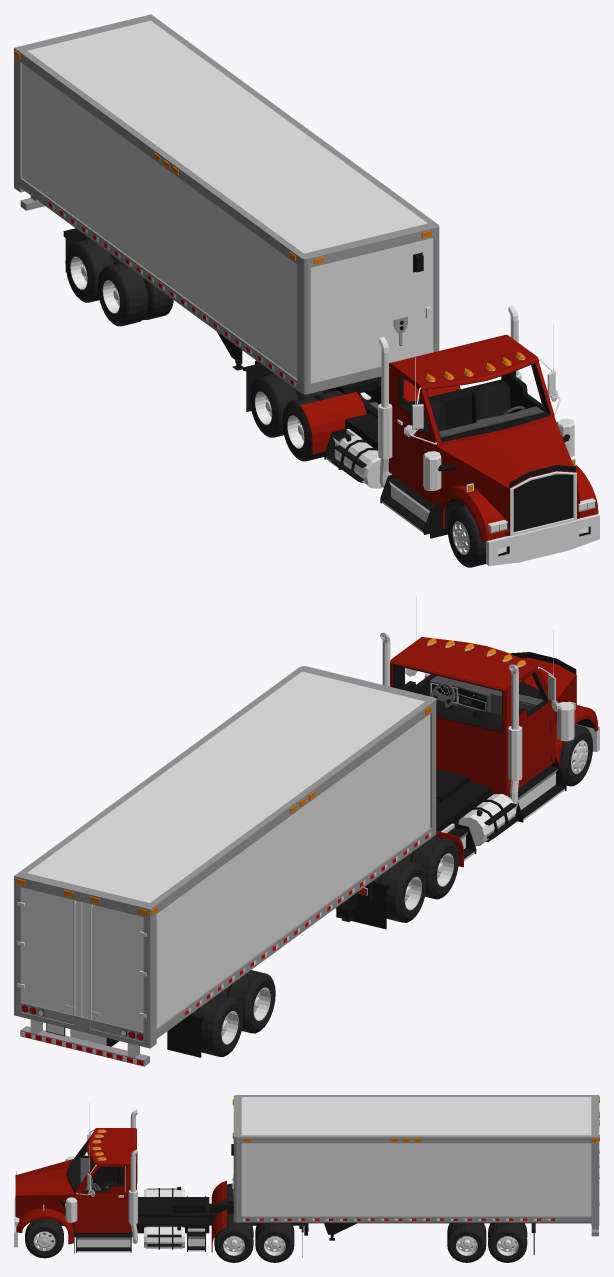
File: Lowpoly Semi.fbx
The picture shows the model from 3 angles, top to bottom: view 1: azimuth 30°, elevation 25°; view 2: azimuth 150°, elevation 25°; view 3: azimuth 270°, elevation 25°; orthographic projection. The views are drawn at different scales.
Parts seen in each view (by area): view 1: Cube, Body, Wheels, Wheels.001, Fenders, Doors, FuelTanks, Seats, Dash; view 2: Cube, Body, Wheels, Wheels.001, Doors, Dash, FuelTanks, Fenders, Cube.001, Cube.003; view 3: Cube, Body, Wheels, Wheels.001, Doors, Fenders, FuelTanks, Cube.001, Dash.
Part boxes in pixels (x1,y1,x2,y2): Cube: (14, 14, 439, 394); Body: (243, 305, 599, 565); Wheels: (250, 374, 485, 567); Wheels.001: (65, 239, 173, 326); Fenders: (300, 379, 598, 540); Doors: (397, 364, 545, 500); FuelTanks: (331, 435, 391, 488); Seats: (408, 383, 510, 431); Dash: (439, 406, 544, 437); Cube: (14, 666, 436, 1066); Body: (336, 596, 599, 929); Wheels: (373, 724, 593, 922); Wheels.001: (193, 970, 275, 1056); Doors: (403, 667, 550, 783); Dash: (429, 675, 543, 716); FuelTanks: (458, 794, 519, 846); Fenders: (435, 705, 598, 867); Cube.001: (185, 832, 430, 1015); Cube.003: (21, 1031, 143, 1065); Cube: (232, 1095, 599, 1254); Body: (14, 1103, 308, 1257); Wheels: (25, 1183, 294, 1262); Wheels.001: (447, 1223, 527, 1262); Doors: (80, 1150, 125, 1230); Fenders: (16, 1180, 226, 1253); FuelTanks: (144, 1187, 184, 1249); Cube.001: (243, 1218, 554, 1220); Dash: (80, 1158, 108, 1217).
Bounding box in the file's own units: 1391 × 1645 × 6973.
